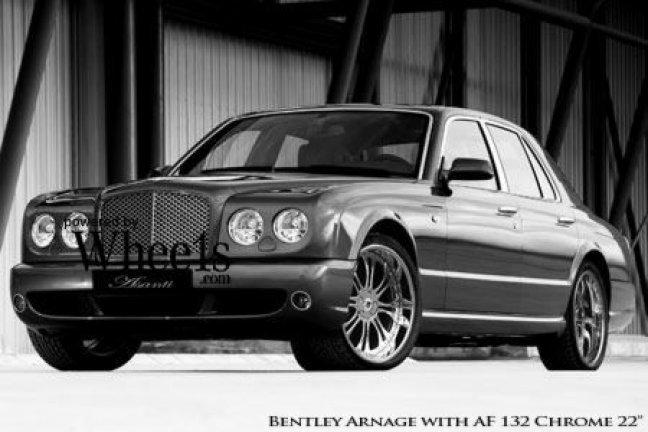car: (10, 102, 641, 373)
